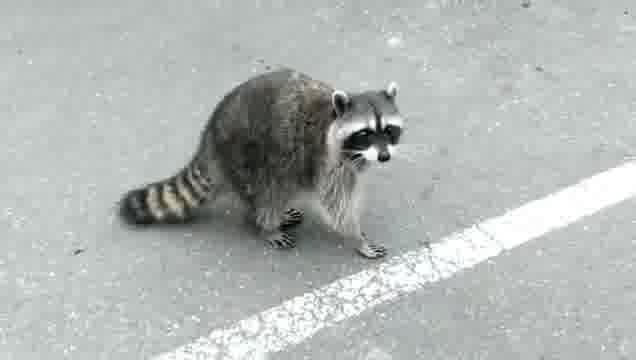raccoon: (114, 61, 411, 269)
